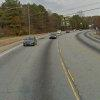Car: (19, 31, 42, 51)
